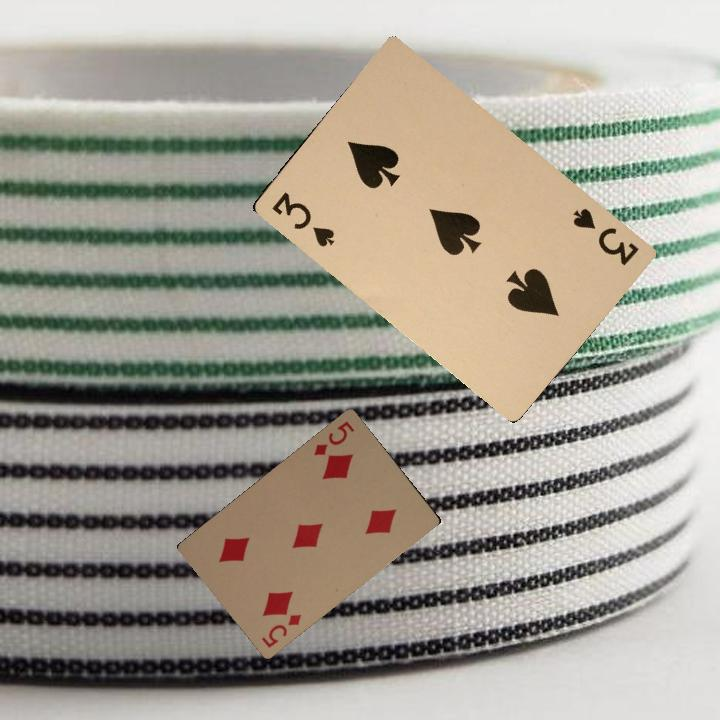3s: (568, 203, 642, 268), (267, 188, 337, 250)
5d: (309, 417, 357, 458), (257, 610, 304, 650)
